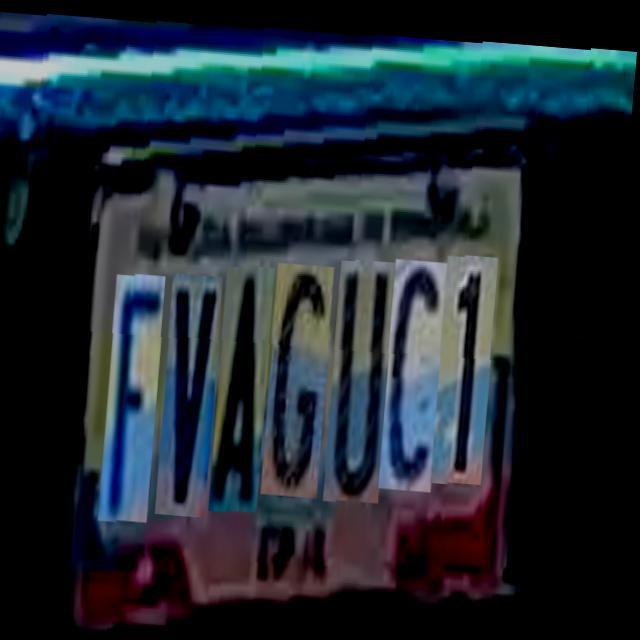1: (437, 246, 502, 476)
A: (217, 256, 280, 504)
C: (386, 250, 452, 482)
F: (106, 264, 170, 514)
G: (268, 254, 338, 489)
U: (330, 250, 400, 494)
V: (162, 264, 228, 508)
